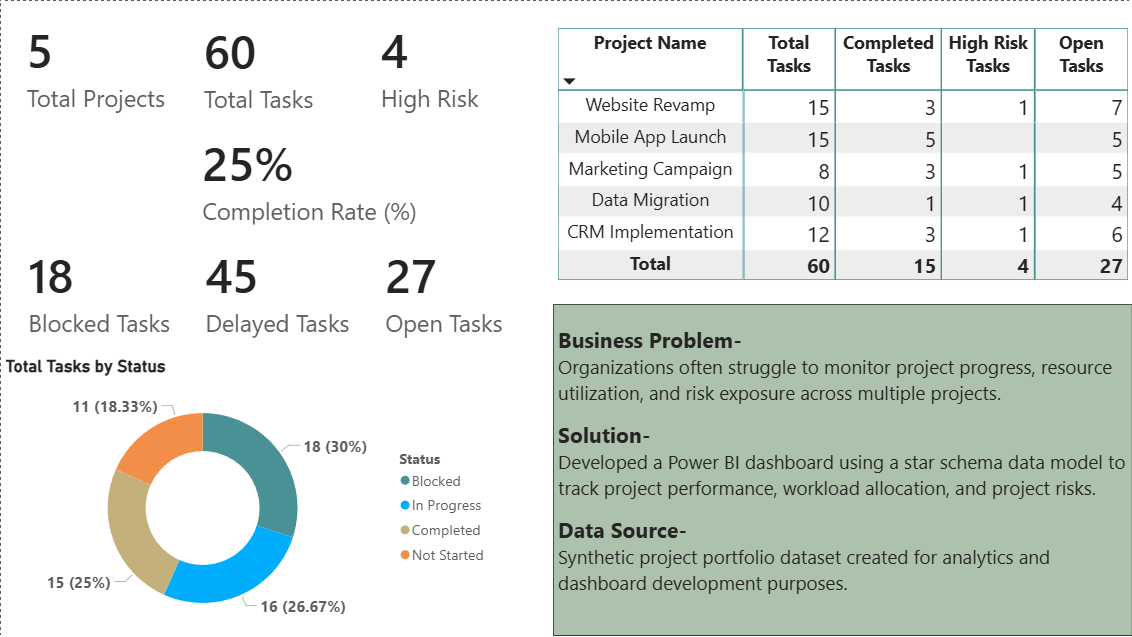

The dashboard page shown, as its layout file describes it:
{"tool":"powerbi","page":{"name":"Executive Summary","canvas":[1280,720],"ordinal":0},"visuals":[{"type":"cardVisual","fields":{"Data":["Dim_Projects.Total_Projects"]},"box":[0,0,230.3,145.8],"z":0},{"type":"cardVisual","fields":{"Data":["Fact_Tasks.Total_Tasks"]},"box":[200.4,0,185.5,147.4],"z":1000},{"type":"cardVisual","fields":{"Data":["Fact_Tasks.Completion_Rate"]},"box":[198.8,127.5,314.7,145.8],"z":2000},{"type":"cardVisual","fields":{"Data":["Fact_Tasks.Open_Tasks"]},"box":[405.3,247.9,203.7,159],"z":3000},{"type":"cardVisual","fields":{"Data":["Fact_Tasks.Blocked_Tasks"]},"box":[1.7,258.4,228.6,137.5],"z":4000},{"type":"cardVisual","fields":{"Data":["Fact_Tasks.Delayed_Tasks"]},"box":[201.1,253.2,224,148],"z":5000},{"type":"cardVisual","fields":{"Data":["Fact_Risks.High_Risk_Count"]},"box":[399.2,0,173.9,145.8],"z":6000},{"type":"donutChart","fields":{"Category":["Dim_Status.Status"],"Y":["Fact_Tasks.Total_Tasks"]},"box":[0,400.9,559.9,319.7],"z":7000},{"type":"pivotTable","fields":{"Values":["Fact_Tasks.Total Tasks","Fact_Tasks.Completed Tasks","Fact_Risks.High_Risk_Count","Fact_Tasks.Open_Tasks"],"Rows":["Dim_Projects.ProjectName"]},"box":[624.5,24.8,656,303.1],"z":8000},{"type":"textbox","box":[624.5,342.9,656,376],"z":9000}]}

Visuals, with their boxes in screenshot pixels (x1, y1, x2, y2), scaled from the page's 1280x720 canvas onto the 1132x637 screenshot:
cardVisual - Dim_Projects.Total_Projects: crop(0, 0, 204, 129)
cardVisual - Fact_Tasks.Total_Tasks: crop(177, 0, 341, 130)
cardVisual - Fact_Tasks.Completion_Rate: crop(176, 113, 454, 242)
cardVisual - Fact_Tasks.Open_Tasks: crop(358, 219, 539, 360)
cardVisual - Fact_Tasks.Blocked_Tasks: crop(2, 229, 204, 350)
cardVisual - Fact_Tasks.Delayed_Tasks: crop(178, 224, 376, 355)
cardVisual - Fact_Risks.High_Risk_Count: crop(353, 0, 507, 129)
donutChart - Dim_Status.Status x Fact_Tasks.Total_Tasks: crop(0, 355, 495, 636)
pivotTable - Fact_Tasks.Total Tasks x Fact_Tasks.Completed Tasks: crop(552, 22, 1131, 290)
textbox: crop(552, 303, 1131, 636)
